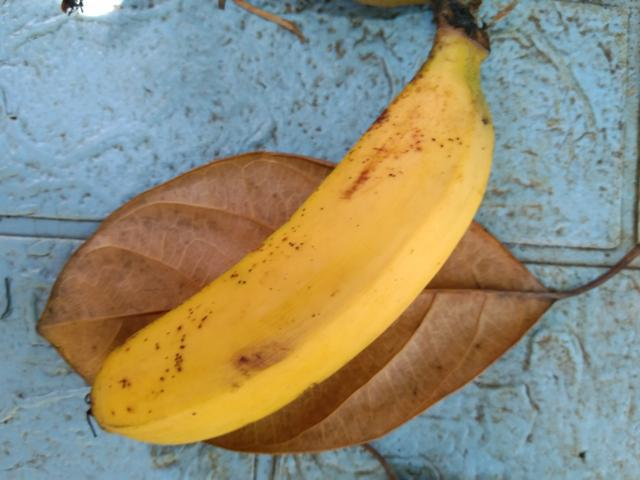ripe: (43, 79, 513, 452)
